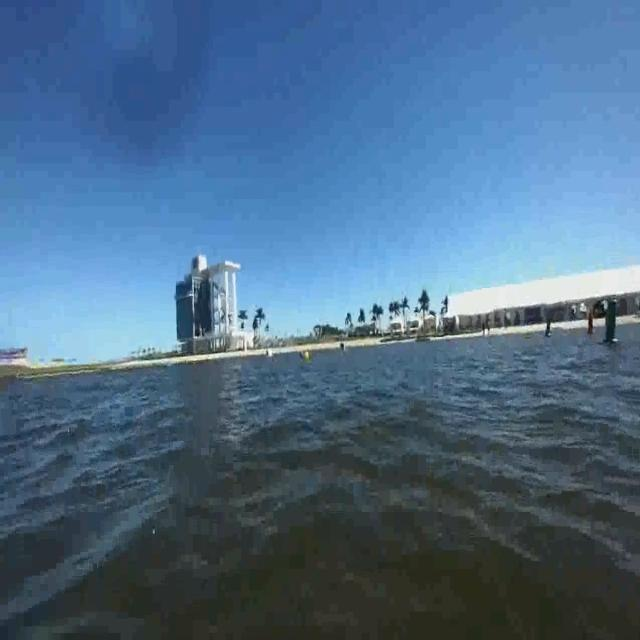green-column-buoy: (601, 300, 620, 347)
red-column-buoy: (587, 308, 597, 336)
yellow-buoy: (305, 350, 312, 362)
